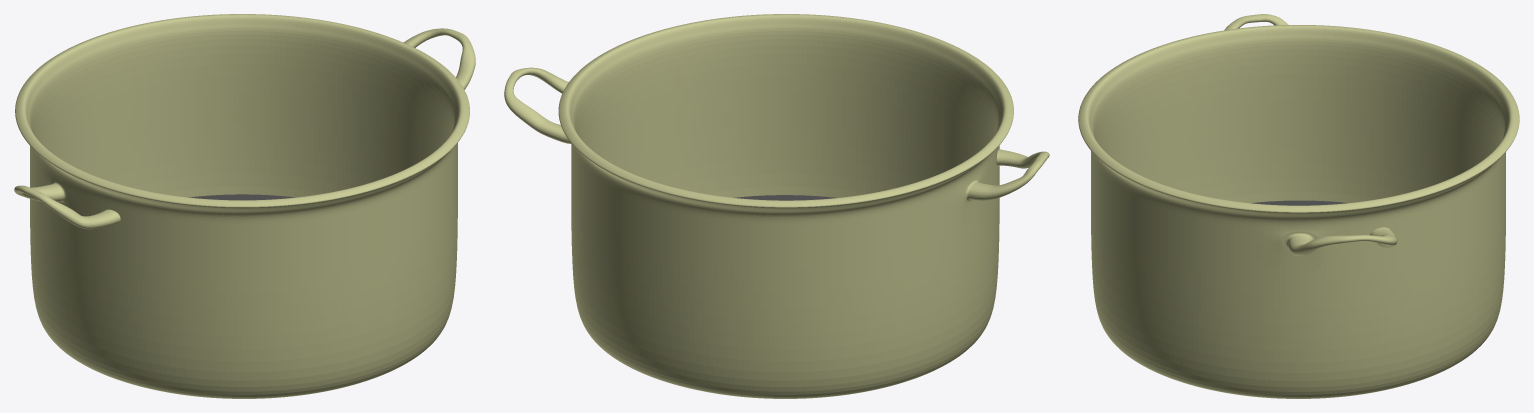
File: Pot_overcooked_Visual.fbx
3 renders of one model, left to right at view 1: azimuth 30°, elevation 25°; view 2: azimuth 150°, elevation 25°; view 3: azimuth 270°, elevation 25°, orthographic. The views are drawn at different scales.
Visible parts, largest first — view 1: 柱体, 柱体.002; view 2: 柱体; view 3: 柱体, 柱体.002.
Part boxes in pixels (bbox=[...]): 柱体: bbox=[14, 14, 475, 398]; 柱体.002: bbox=[188, 194, 295, 200]; 柱体: bbox=[504, 14, 1049, 398]; 柱体: bbox=[1078, 14, 1519, 398]; 柱体.002: bbox=[1251, 200, 1347, 205].
Bounding box in the file's own units: 78.17 × 32.88 × 63.35.
